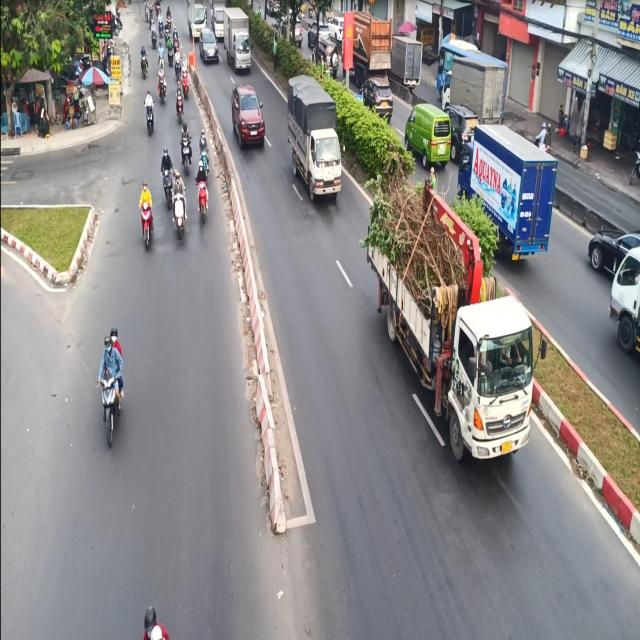car: (228, 81, 272, 150), (199, 24, 219, 68)
motor: (96, 324, 129, 449), (135, 184, 157, 256), (171, 166, 187, 236), (144, 90, 155, 147)
truck: (369, 177, 538, 478), (284, 70, 348, 214), (226, 9, 253, 74)
